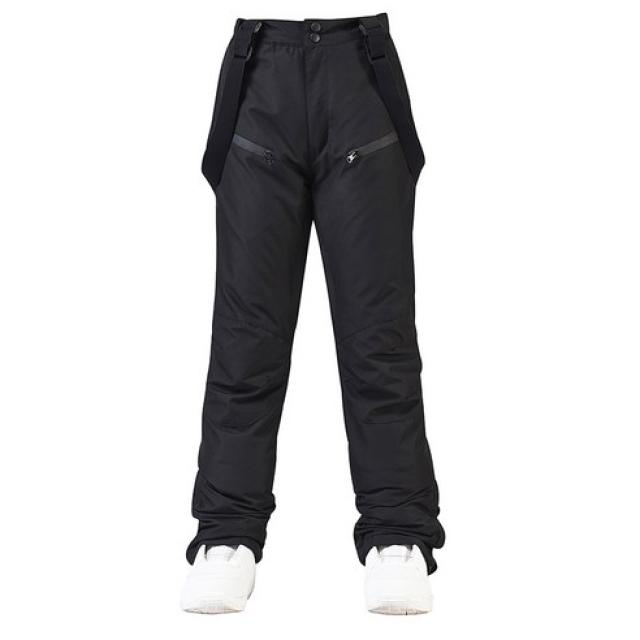pants: (197, 10, 444, 558)
